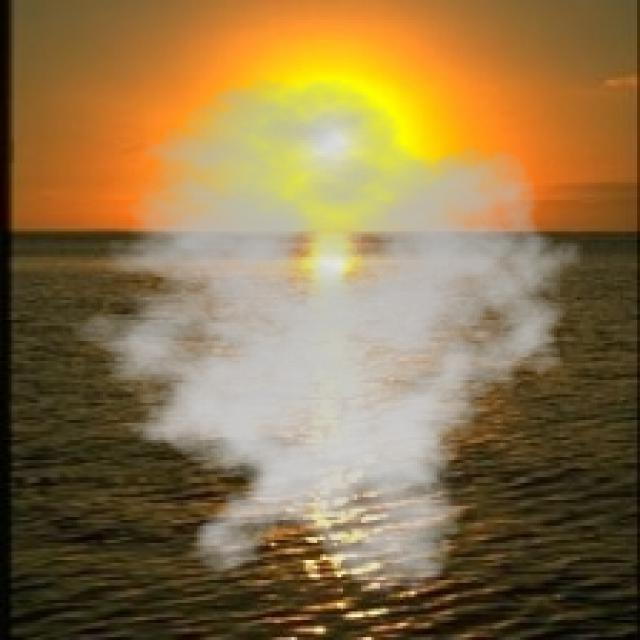Smoke: (45, 77, 598, 597)
